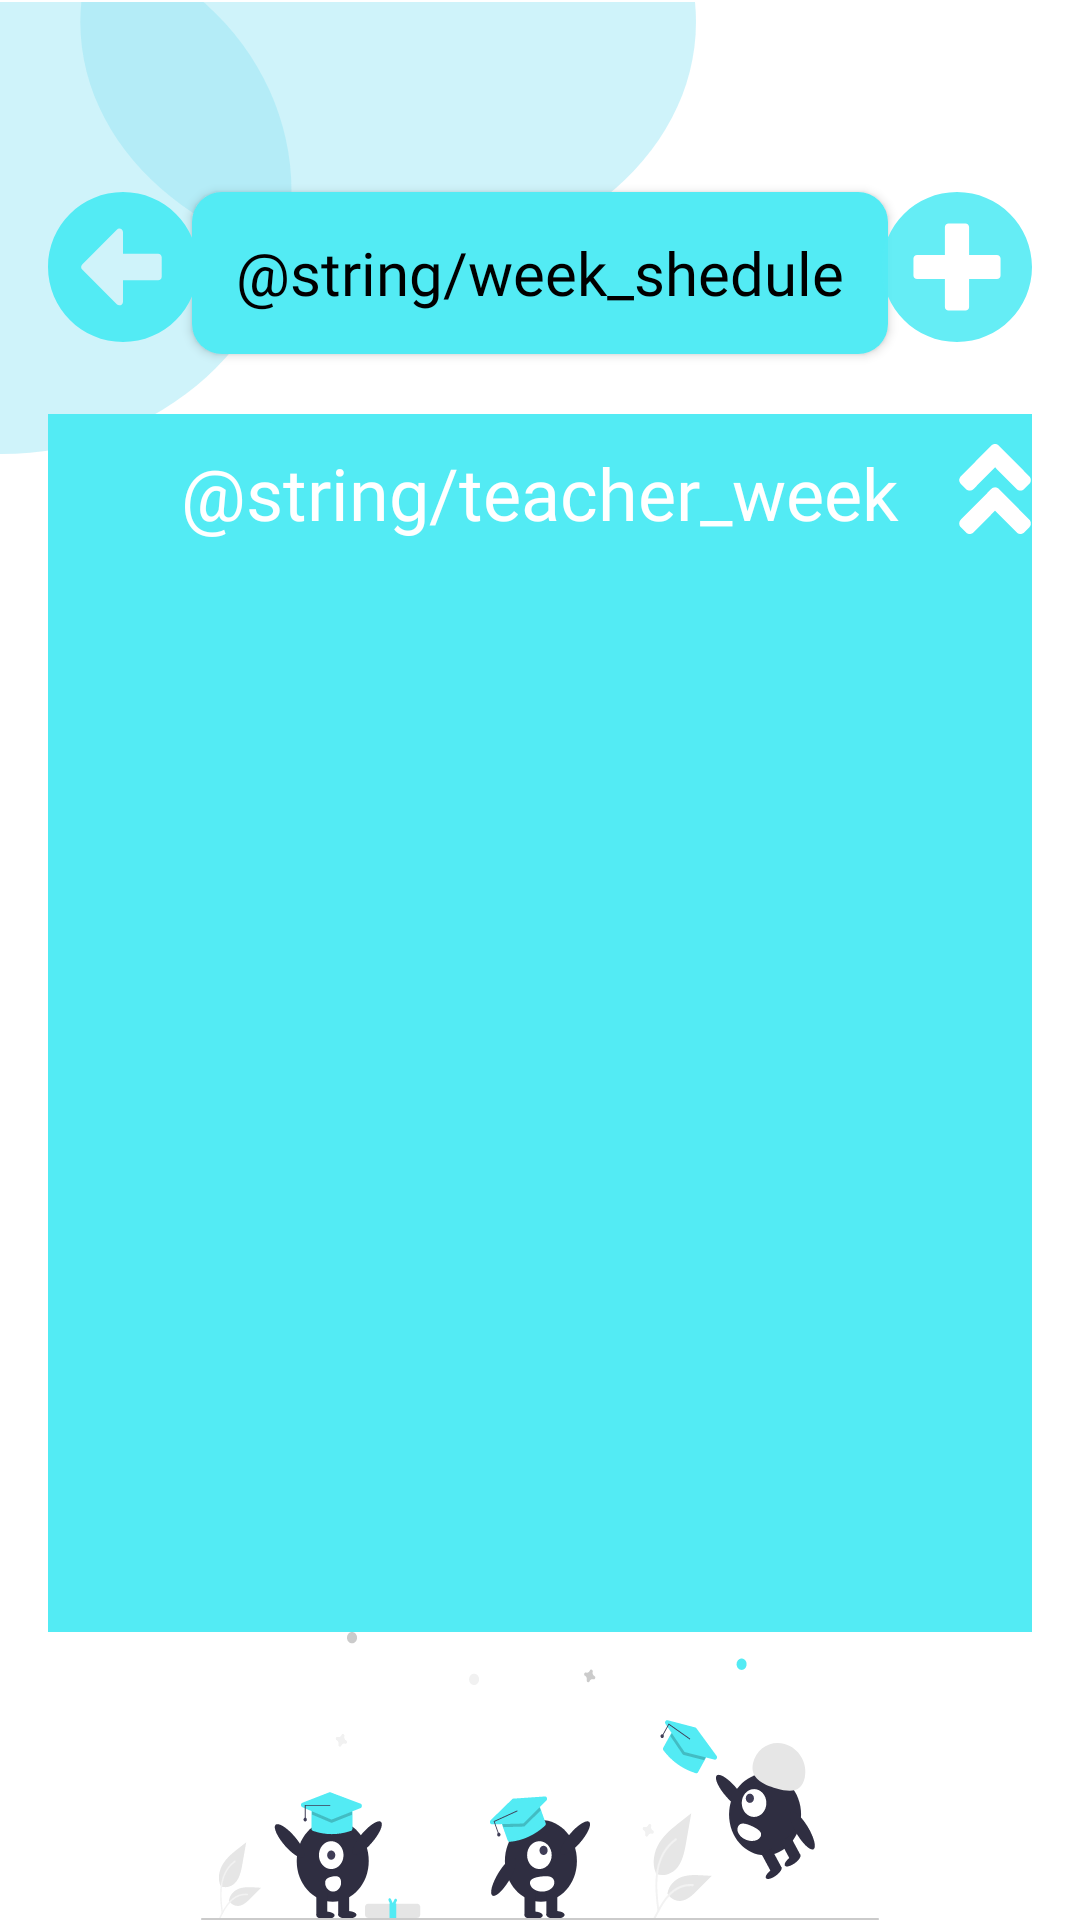

Screen size 1080*1920. Icon name, then its box in pixels as (x1=x1, y1=y1, x2=x2, y2=y2):
add botton: (x1=882, y1=192, x2=1032, y2=342)
back: (x1=48, y1=192, x2=198, y2=342)
higher: (x1=959, y1=444, x2=1031, y2=534)
